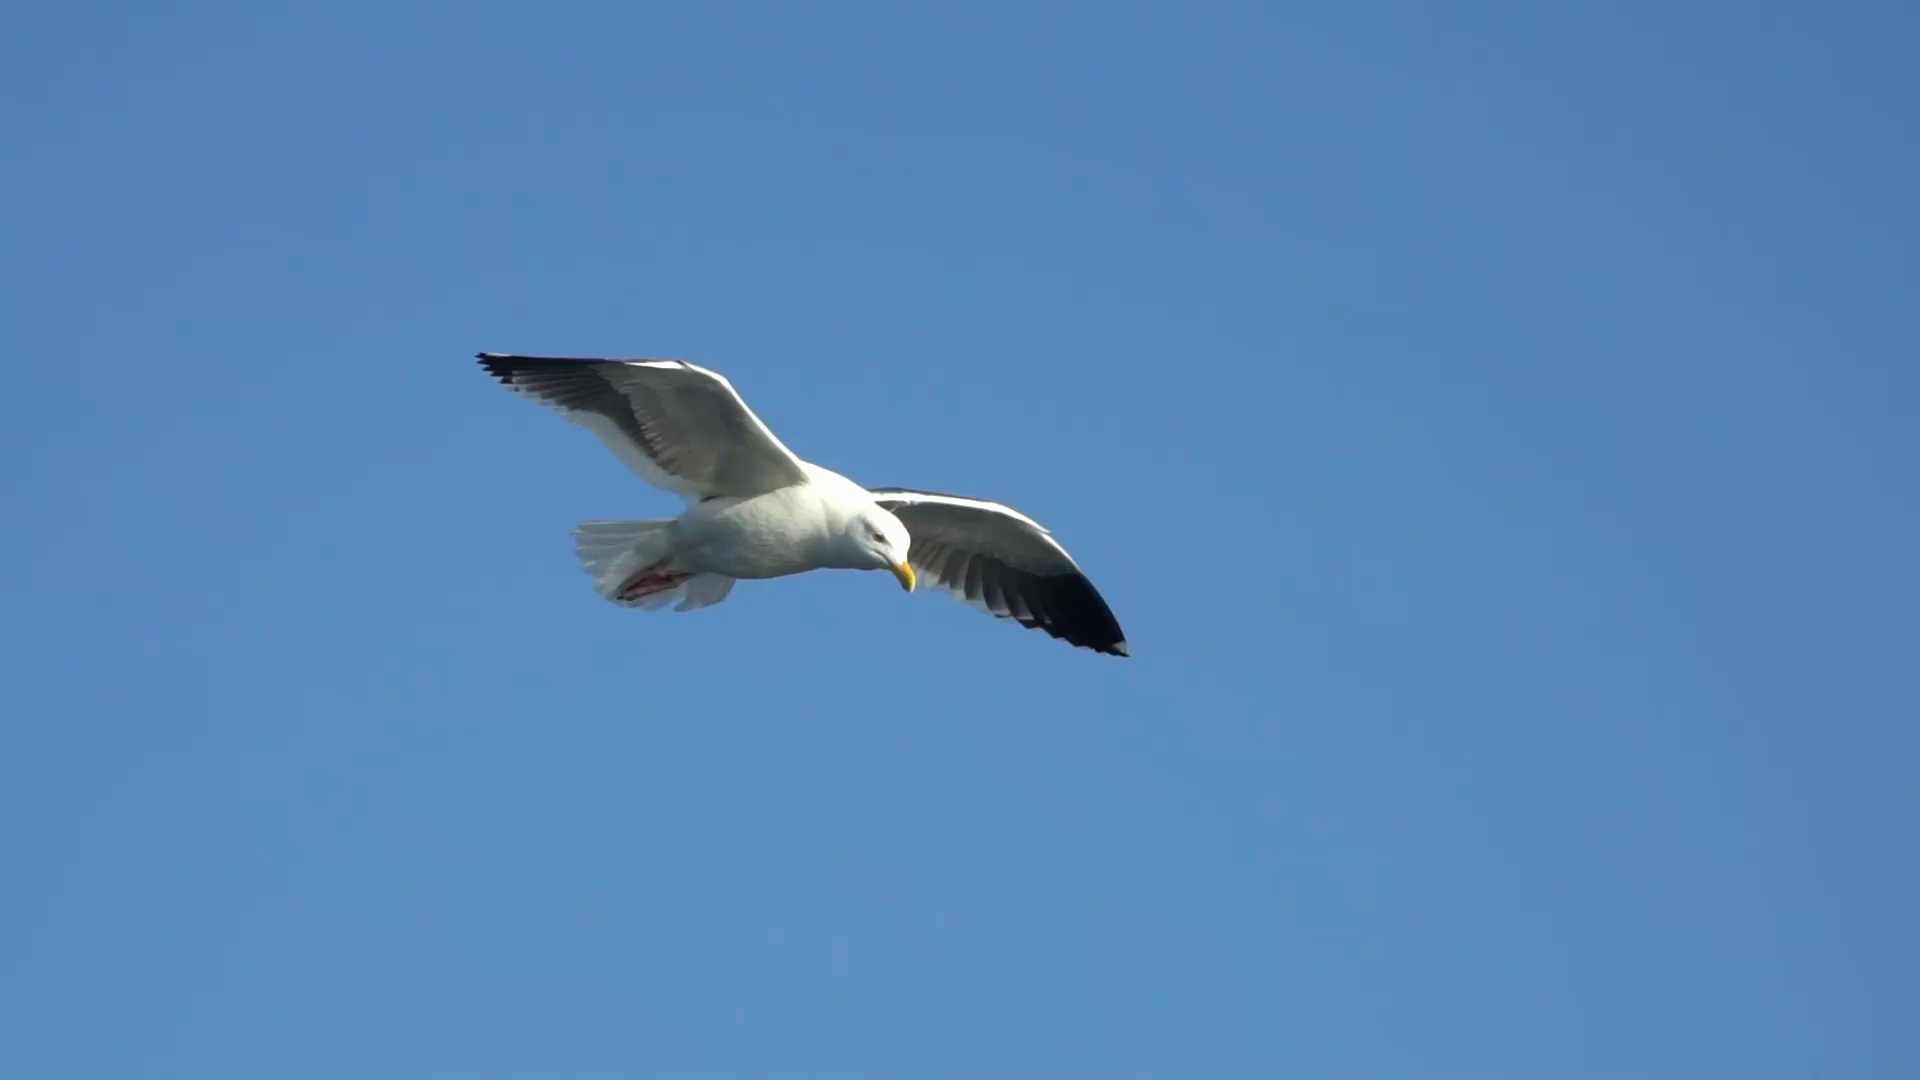bird: (473, 352, 1129, 659)
